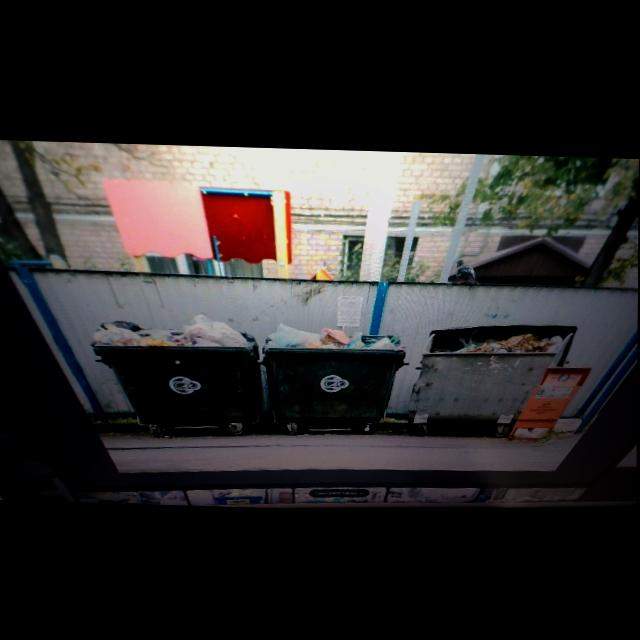Trash_Can_Full: (94, 310, 265, 428), (409, 318, 580, 425), (264, 320, 406, 422)
